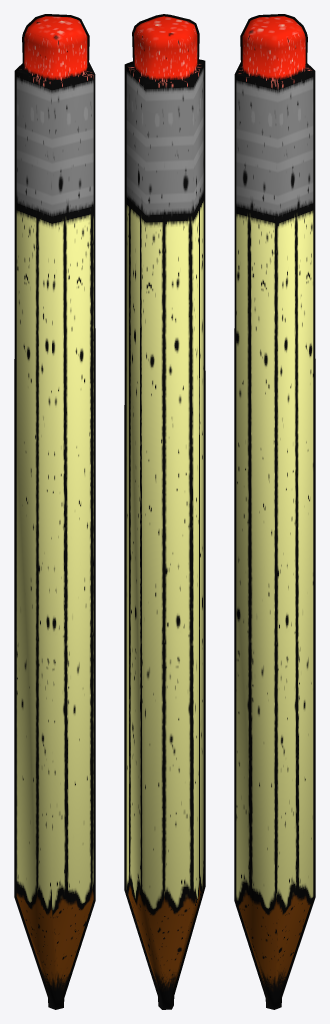
The model's file is pencil.obj.
The picture shows the model from 3 angles, left to right: view 1: azimuth 30°, elevation 25°; view 2: azimuth 150°, elevation 25°; view 3: azimuth 330°, elevation 25°; orthographic projection.
Visible parts, largest first — view 1: Cylinder; view 2: Cylinder; view 3: Cylinder.
Part boxes in pixels (<box>): Cylinder: <box>14,14,95,1009</box>; Cylinder: <box>124,14,205,1009</box>; Cylinder: <box>234,14,315,1009</box>.
Size of the model in its own units: 2.02 by 26.67 by 1.92.
